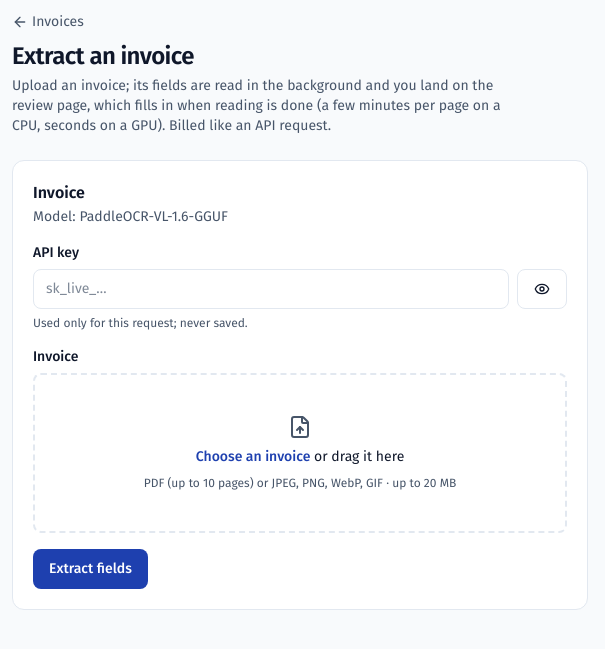
Test case: Extract an invoice › validates before uploading
Click the button "Extract fields". click: (90, 569)
box: [33, 549, 148, 589]
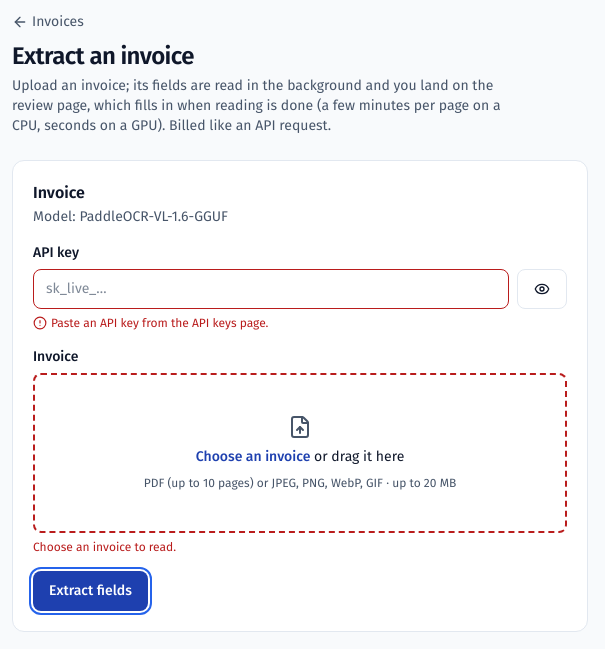
Result: the text "Paste an API key from the API keys page." is shown at [33, 316, 268, 330]
Result: the text "Choose an invoice to read." is shown at [33, 540, 176, 554]
